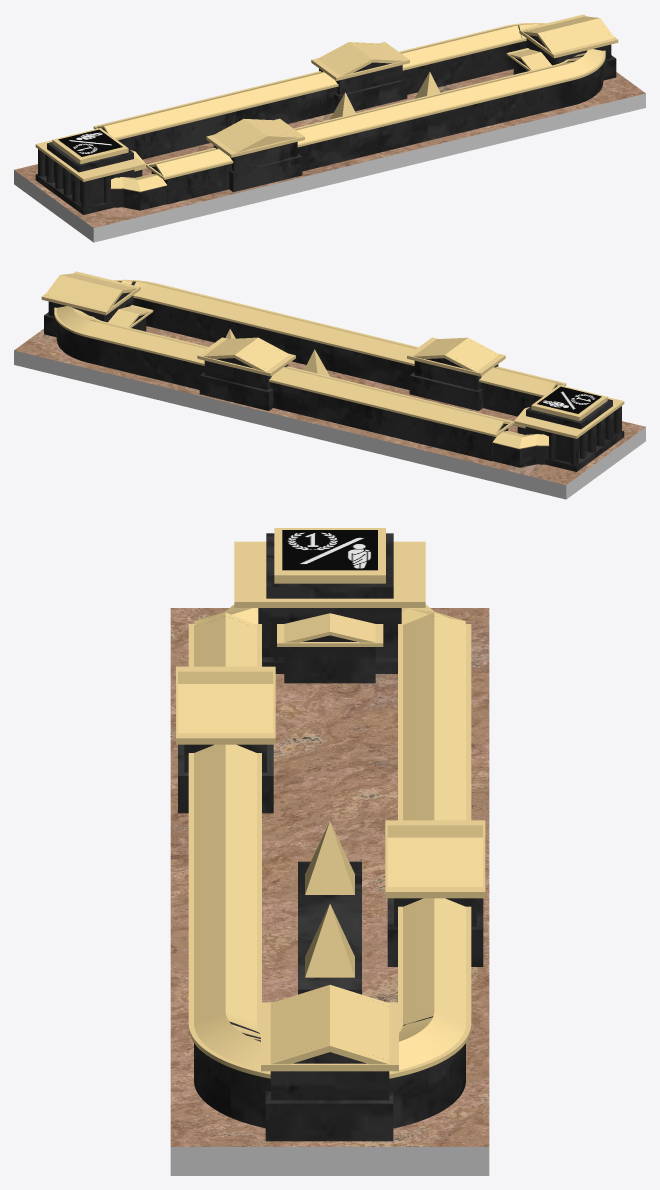
File: buildingCircoMaximo.glb
3 views of the same model, one above another, from view 1: azimuth 30°, elevation 25°; view 2: azimuth 150°, elevation 25°; view 3: azimuth 270°, elevation 25° (orthographic). The views are drawn at different scales.
Parts seen in each view (by area): view 1: CircoMaximo; view 2: CircoMaximo; view 3: CircoMaximo.
Boxes of the visible parts, <box> form: CircoMaximo: <box>14,14,645,242</box>; CircoMaximo: <box>14,271,645,499</box>; CircoMaximo: <box>170,528,489,1175</box>.
Bounding box in the file's own units: 8 × 0.8603 × 2.
5 materials, 3 textured.
